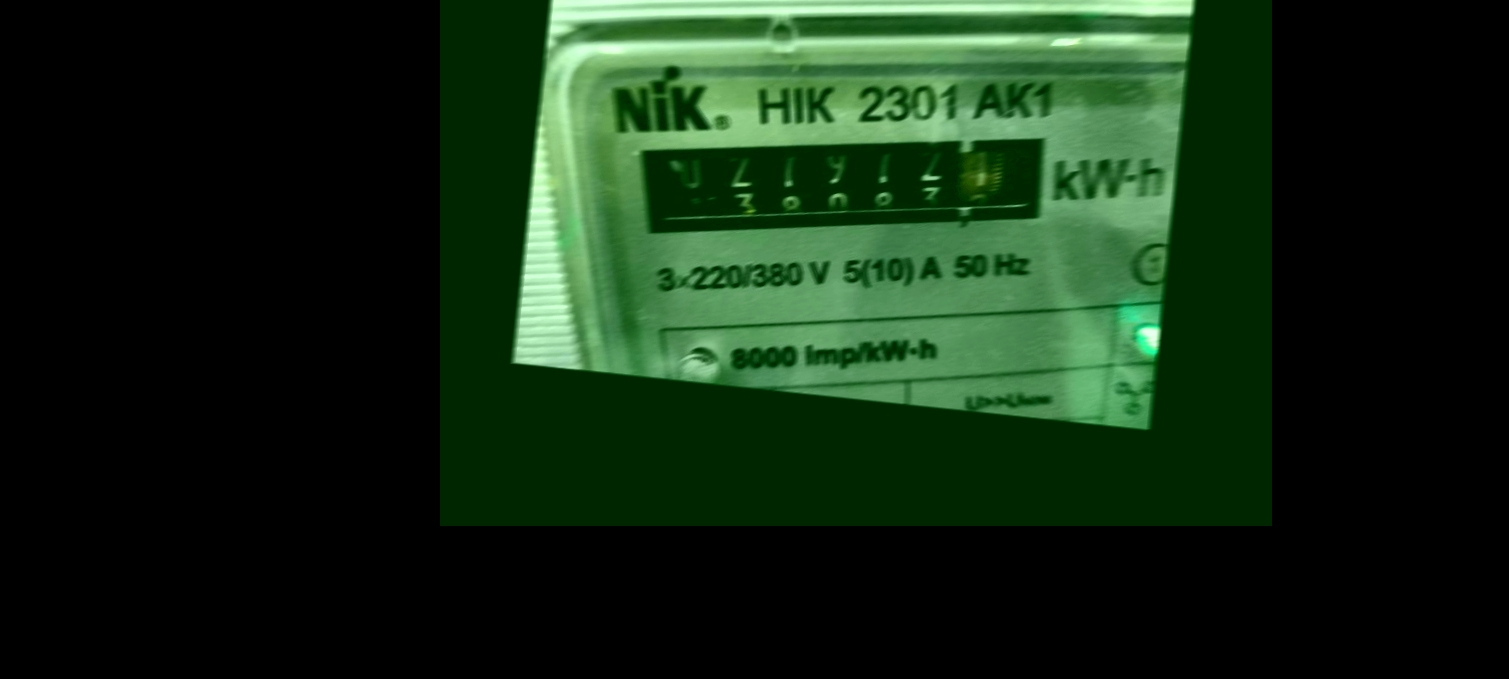0: (674, 152, 706, 190)
1: (969, 146, 995, 191)
2: (724, 148, 757, 190), (915, 144, 947, 184)
7: (868, 144, 898, 187), (774, 150, 801, 189)
9: (822, 148, 851, 186)
screen: (615, 85, 1080, 286)
